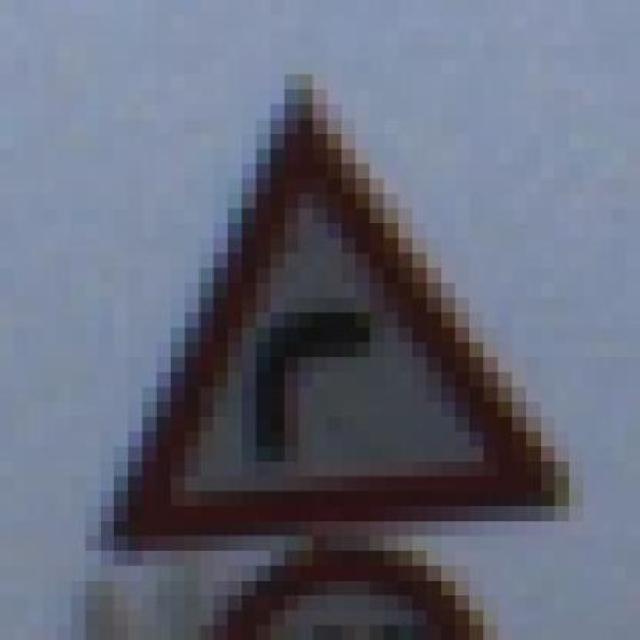Dangerous Rright Curve Ahead: (71, 89, 597, 551)
